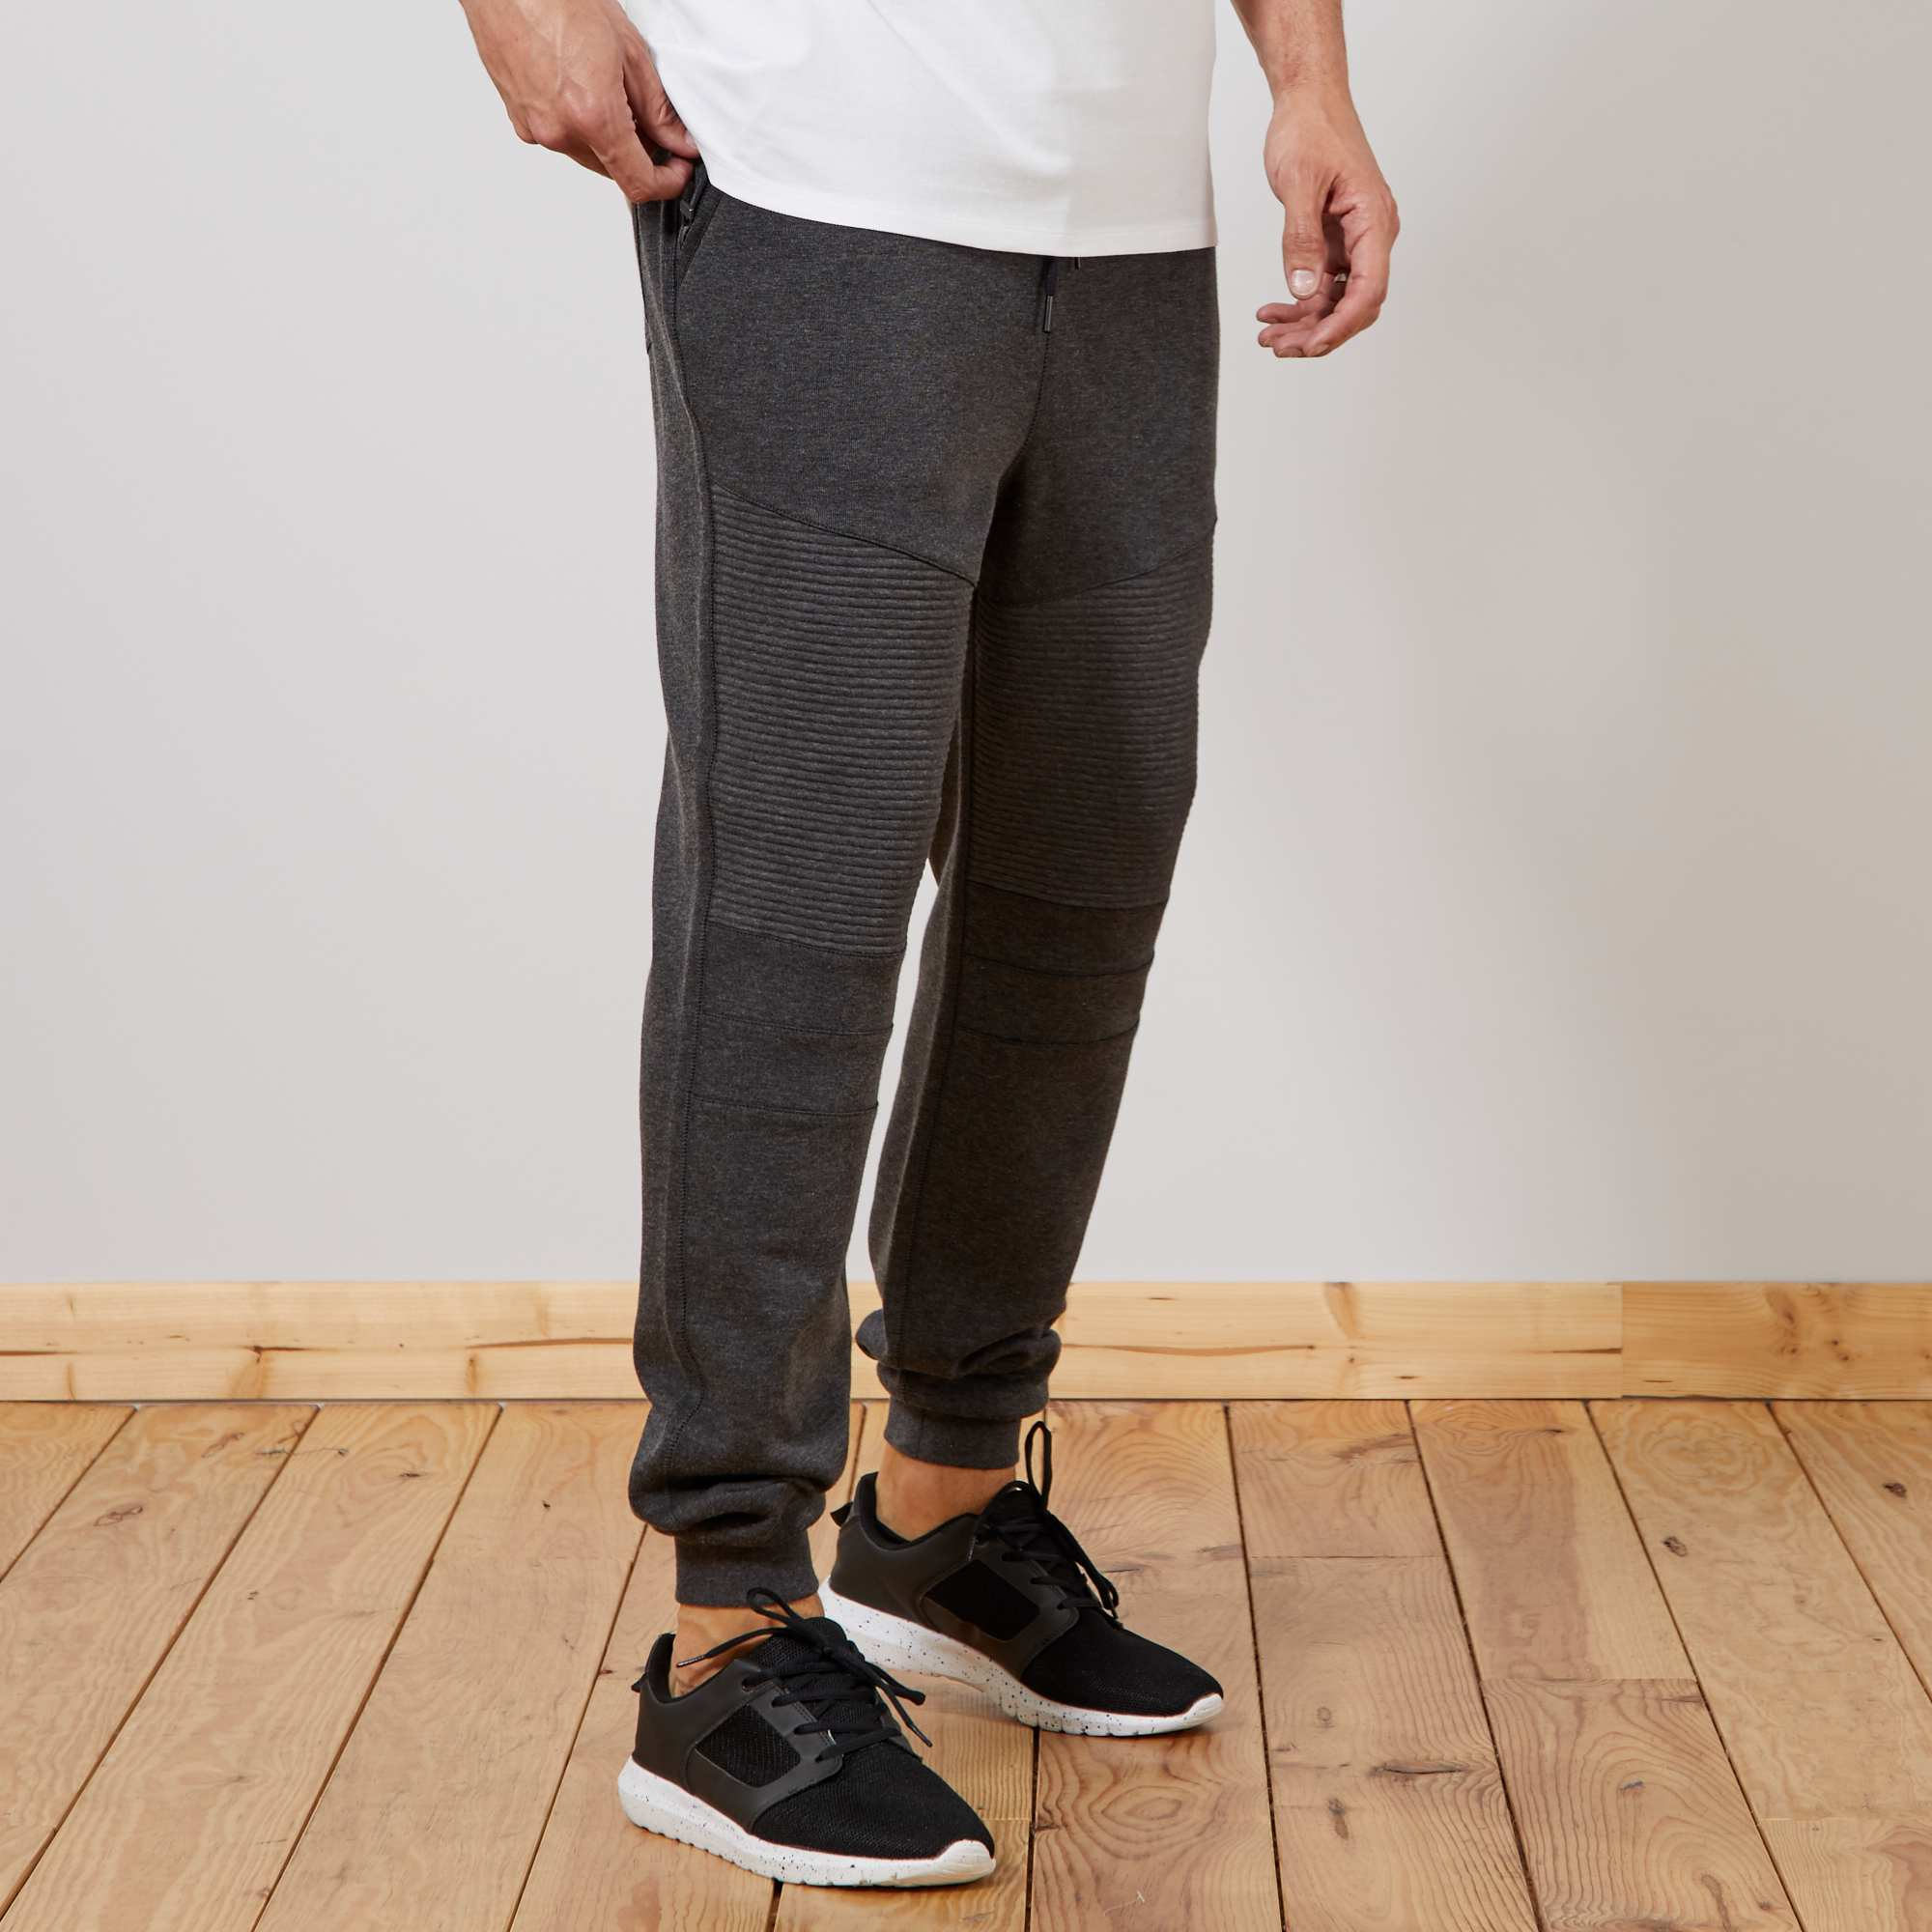feet: (522, 1230, 1276, 1932)
